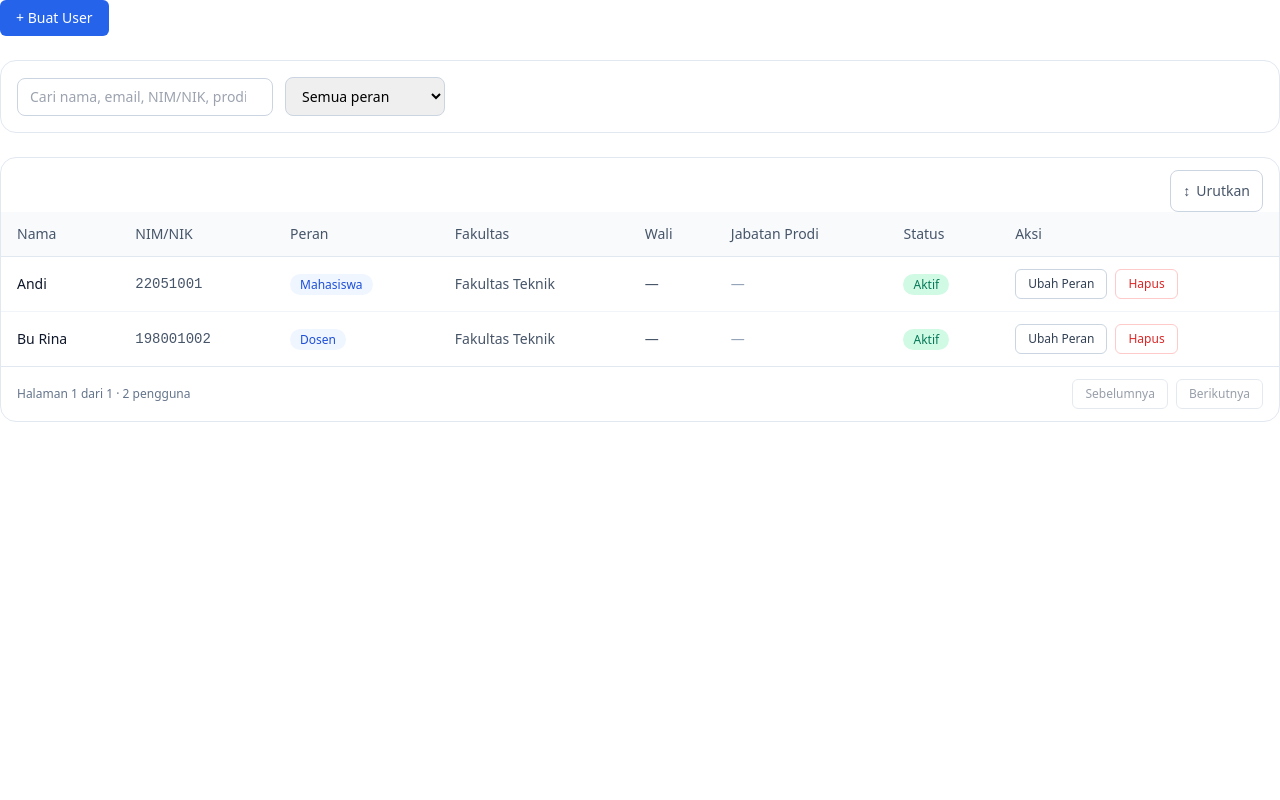
it: UsersPage (T1.11c) › peran admin (tanpa NIM/NIK): form manual → POST lengkap → sukses
expect the text "Andi" is shown: met, box [1,256,119,312]
Click the button "+ Buat User": (54, 18) [0,0,109,36]
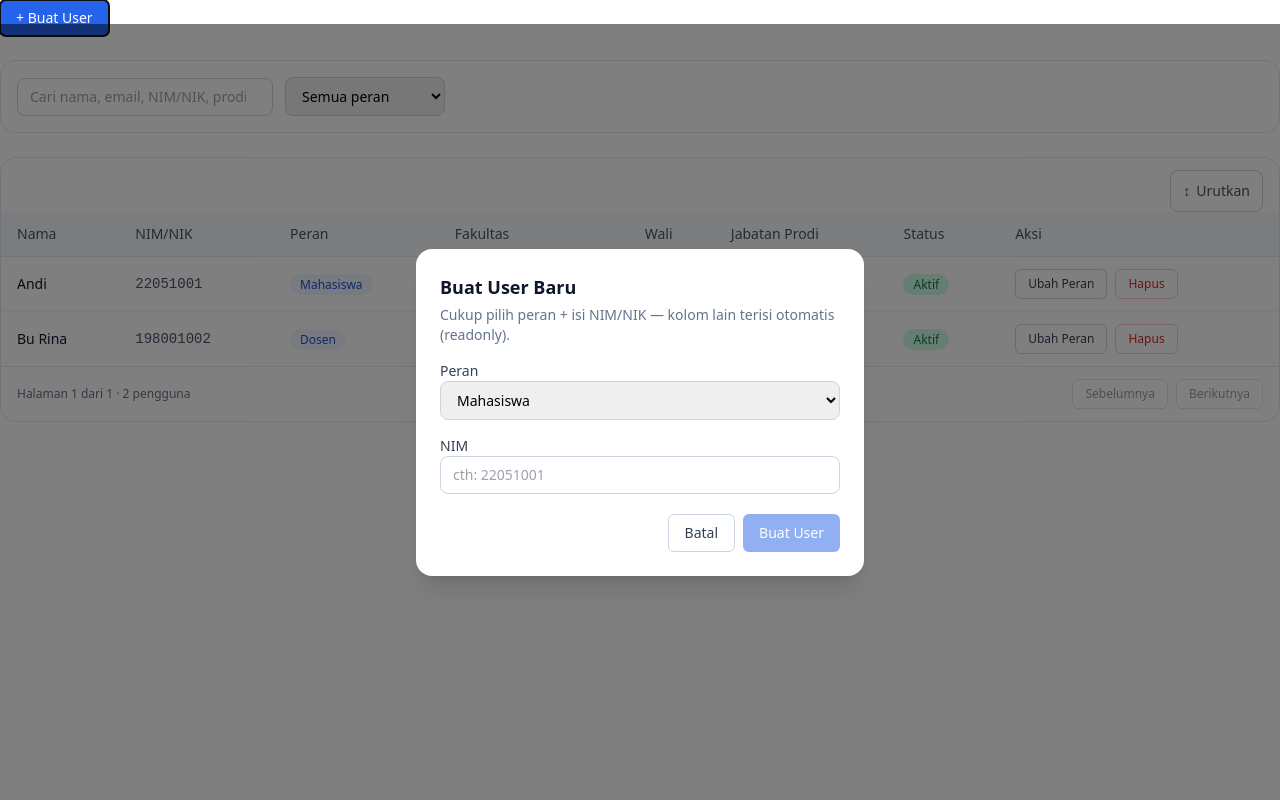
Select "Admin Akademik" in the dropdown labelled "Peran": (640, 400) [440,380,840,420]
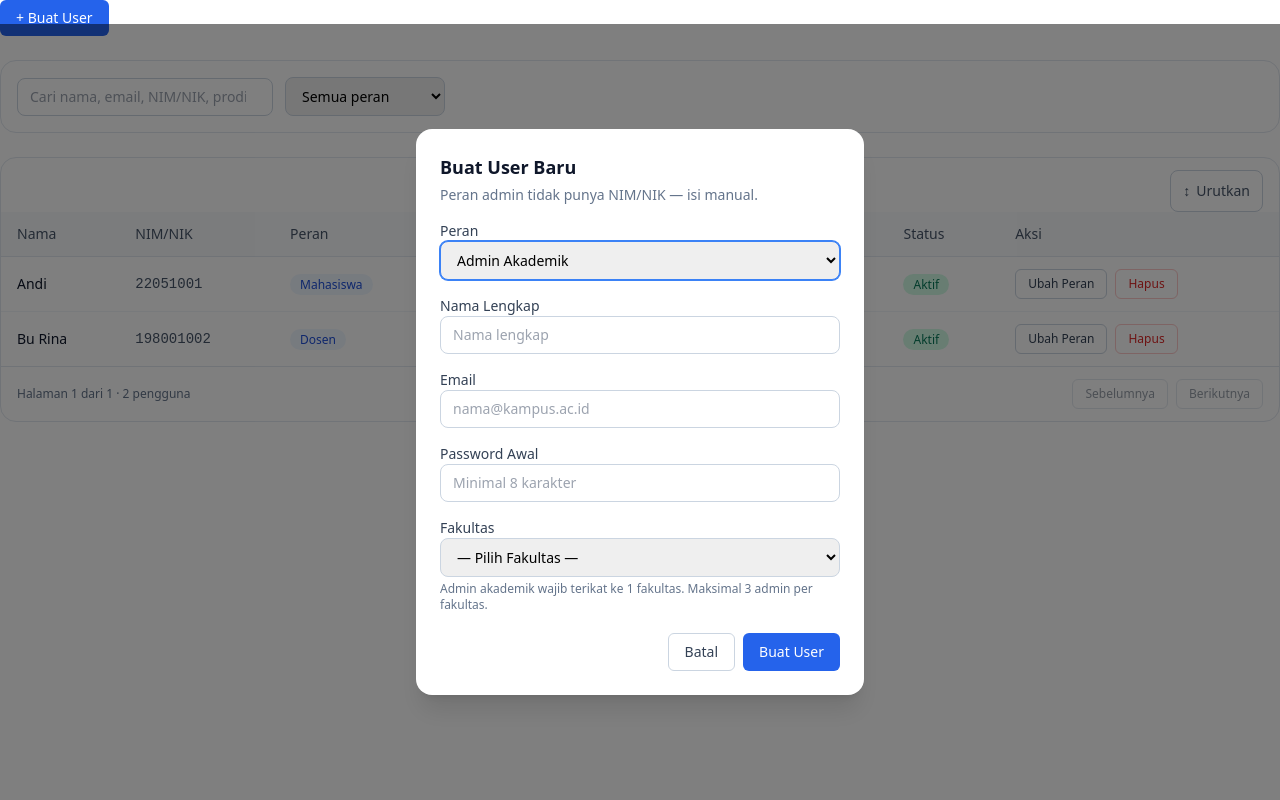
In the field labelled "Nama Lengkap": (640, 335) [440,316,840,354], type "Admin Baru"
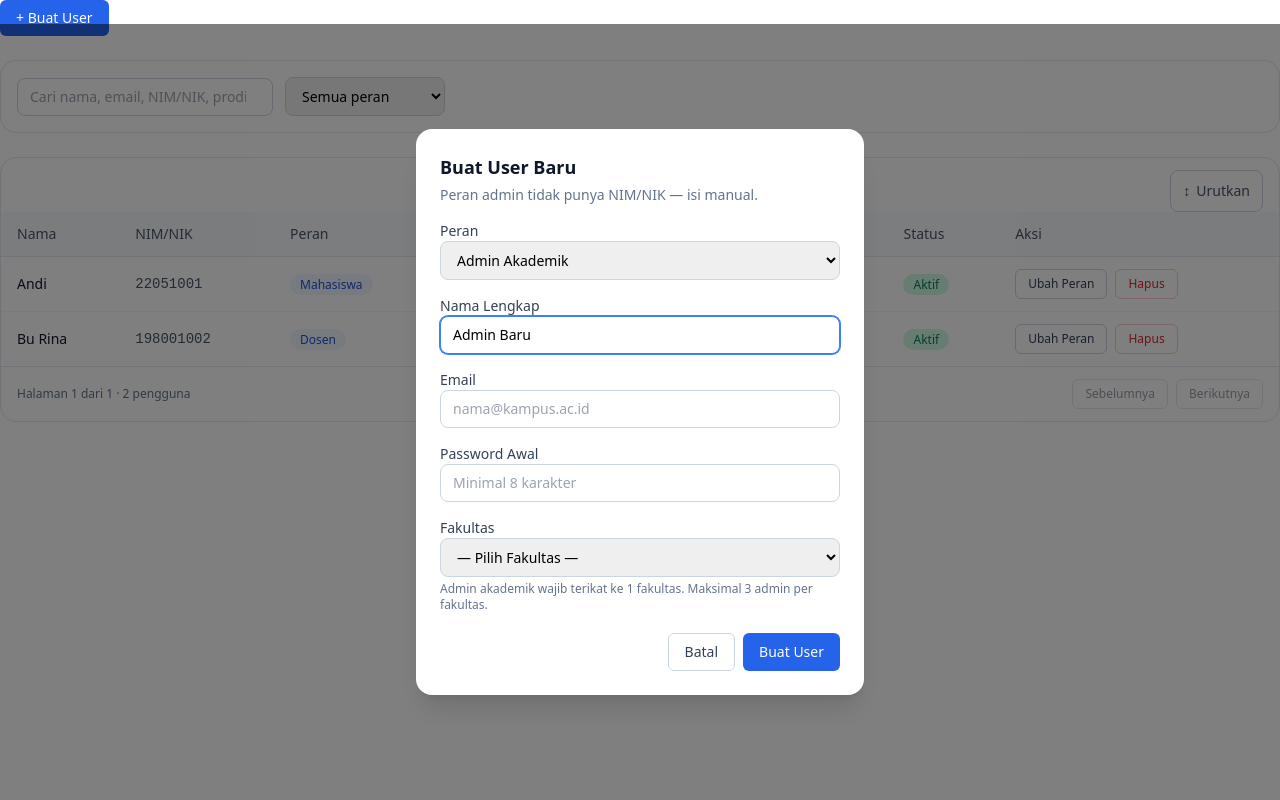
In the field labelled "Email": (640, 409) [440,390,840,428], type "admin.baru@kampus.ac.id"
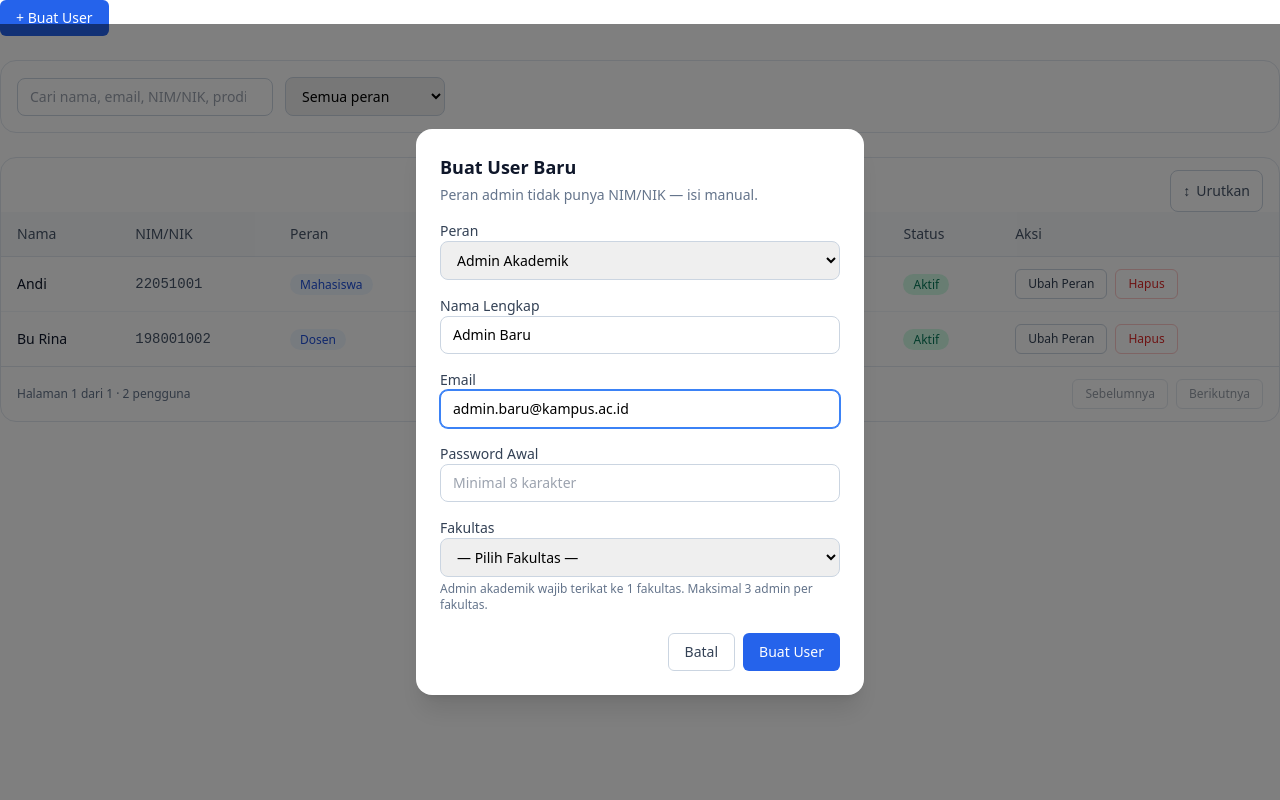
In the password field labelled "Password Awal": (640, 483) [440,464,840,502], type "rahasia123"
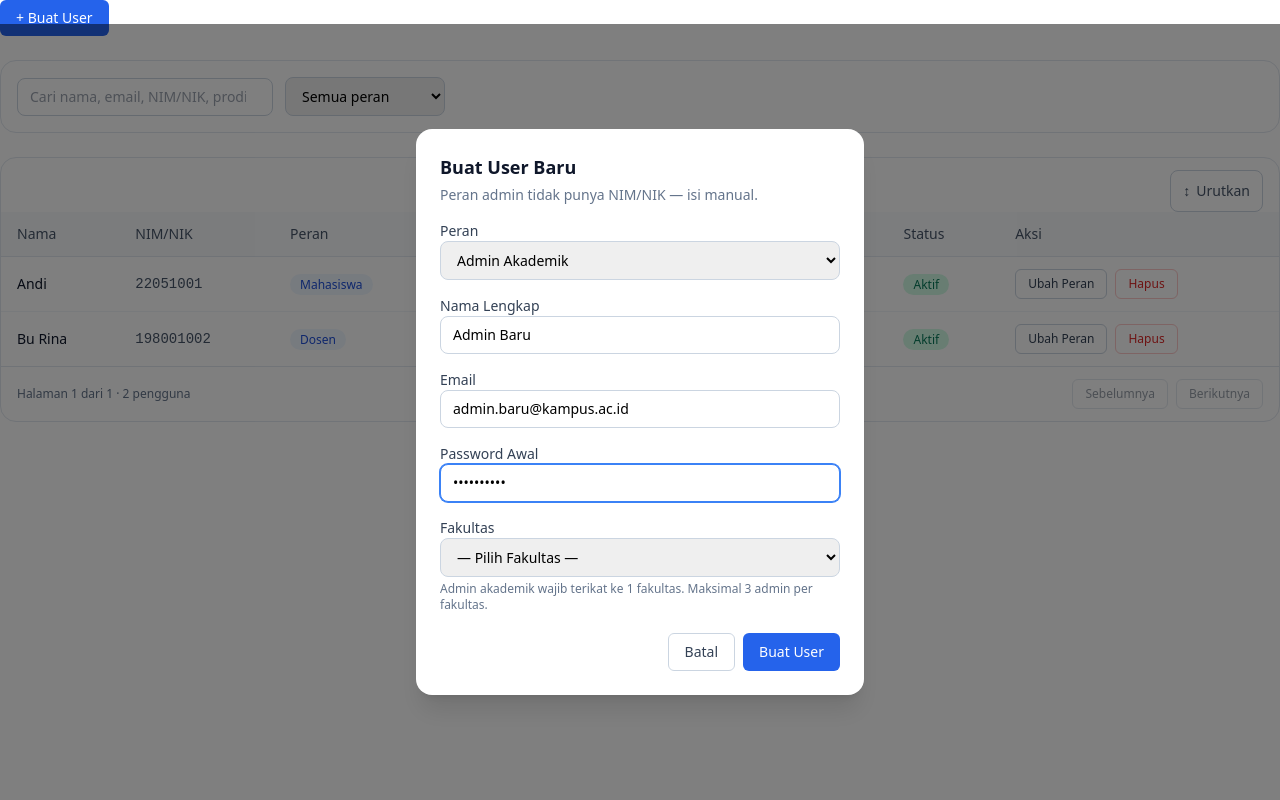
Click the button "Buat User": (792, 652) [743,633,840,671]
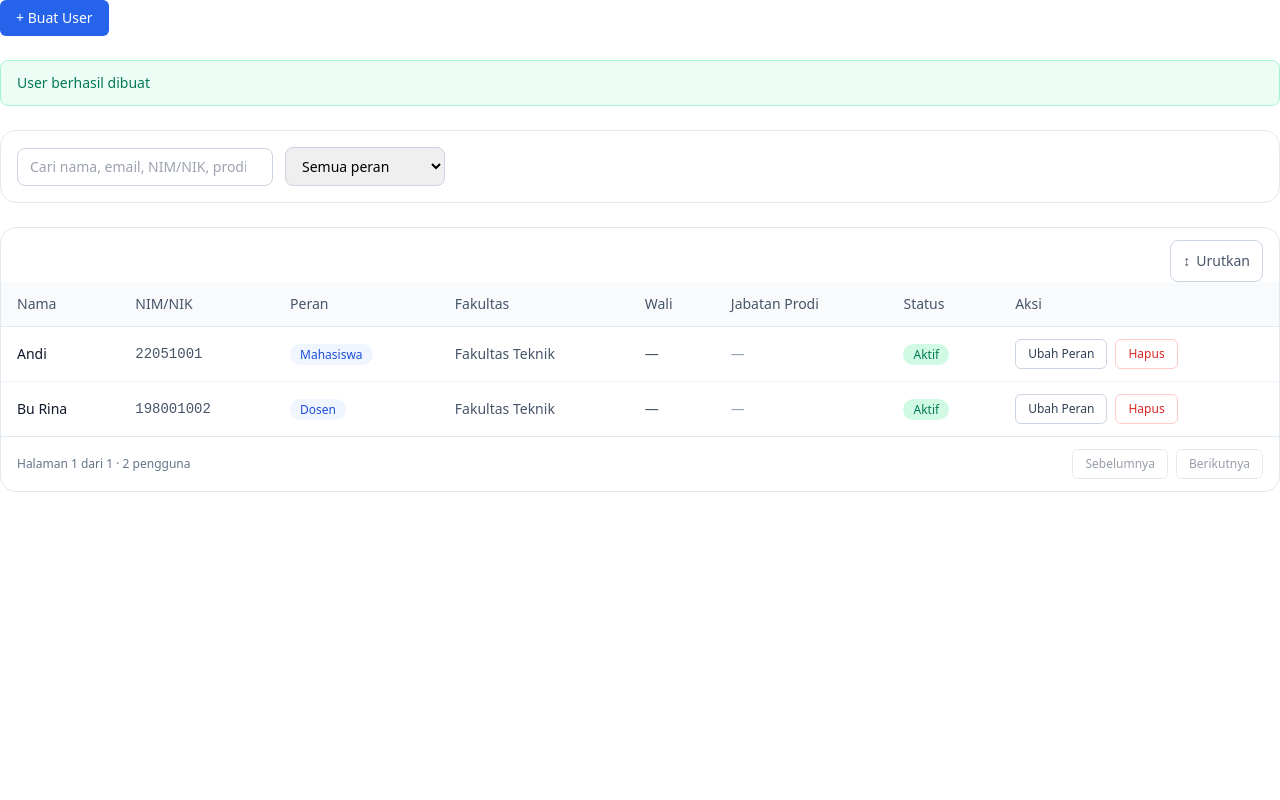
expect the text "User berhasil dibuat" is shown: met, box [0,60,1279,106]
